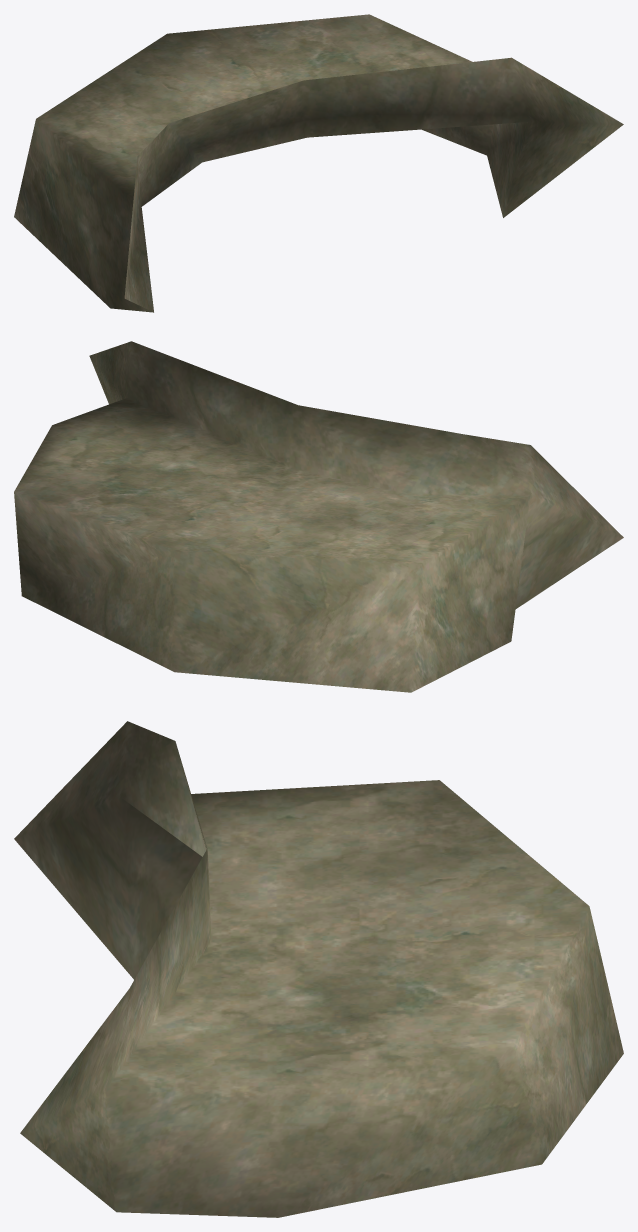
The model's file is EKH_GROTTO_PS_GR_OBJECT27.fbx.
The picture shows the model from 3 angles, top to bottom: view 1: azimuth 30°, elevation 25°; view 2: azimuth 150°, elevation 25°; view 3: azimuth 270°, elevation 25°; orthographic projection. The views are drawn at different scales.
Visible parts, largest first — view 1: EKH_GROTTO_PS_GR_OBJECT27; view 2: EKH_GROTTO_PS_GR_OBJECT27; view 3: EKH_GROTTO_PS_GR_OBJECT27.
Part boxes in pixels (x1,y1,x2,y2): EKH_GROTTO_PS_GR_OBJECT27: (14, 14, 623, 312); EKH_GROTTO_PS_GR_OBJECT27: (14, 341, 623, 692); EKH_GROTTO_PS_GR_OBJECT27: (14, 721, 623, 1217).
Bounding box in the file's own units: 29789 × 10079 × 20717.
1 material, 1 textured.
